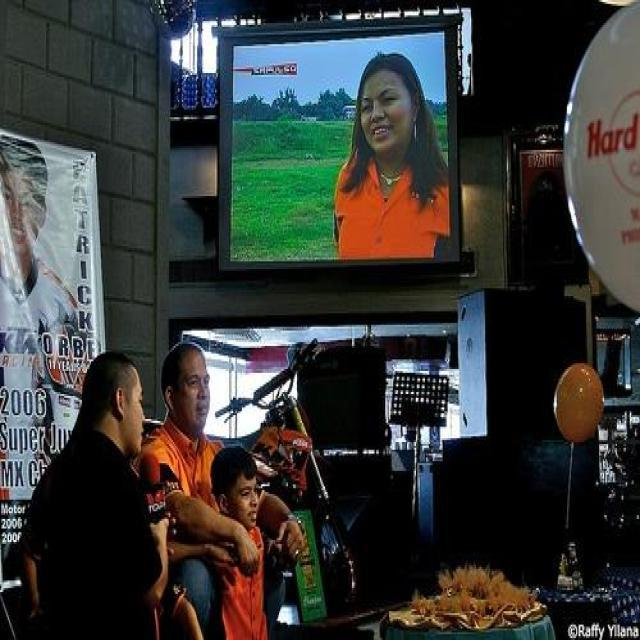Non-Gloves: (222, 514, 260, 574), (274, 514, 312, 568)
